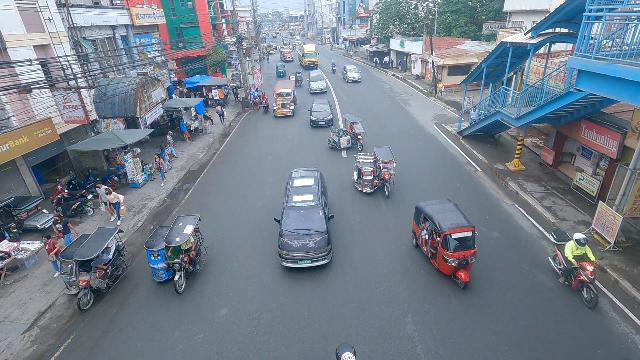car: (307, 97, 335, 129), (306, 69, 328, 95), (341, 64, 362, 84), (283, 39, 291, 46)
jeepney: (269, 79, 299, 118), (278, 45, 294, 62), (264, 43, 277, 55)
motorcycle: (544, 223, 603, 307), (260, 90, 270, 113), (331, 59, 337, 73), (265, 53, 270, 62), (349, 50, 353, 60), (302, 42, 306, 46)
truck: (298, 43, 319, 70)
van: (270, 164, 335, 275)
